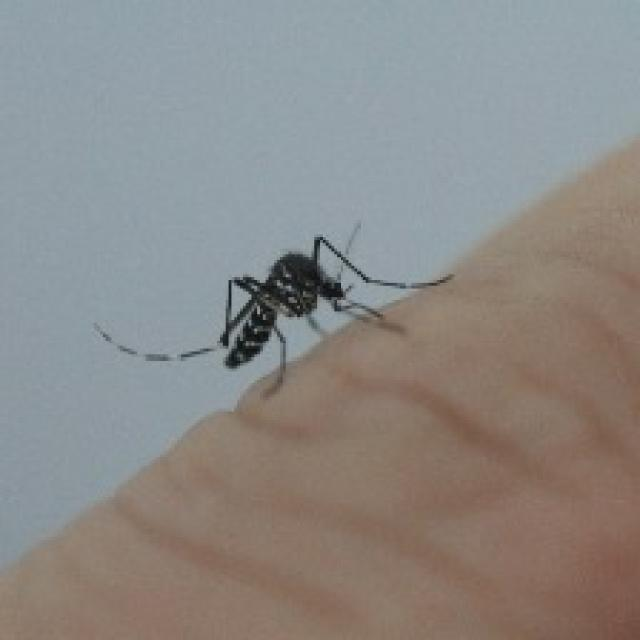aedes: (89, 217, 454, 397)
